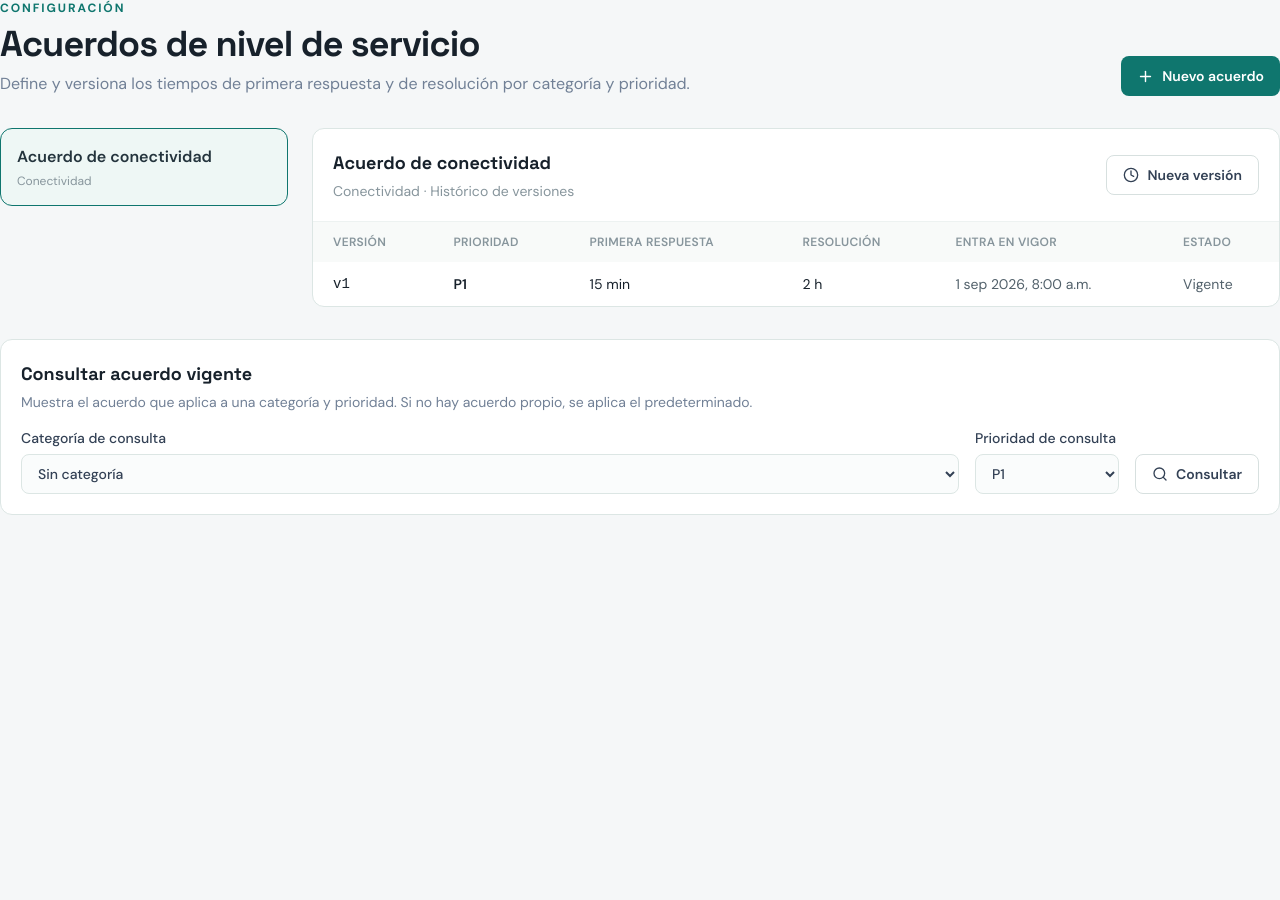
Test case: SlaPage: configuración de SLA (S2-14, HU-08.1) › AC2: exige incluir al menos una prioridad
Expected: the text "v1" is shown, top-left (313, 262), bottom-right (434, 306)
Click the button "Nueva versión".
click(1183, 175)  # box top-left (1106, 155), bottom-right (1259, 195)
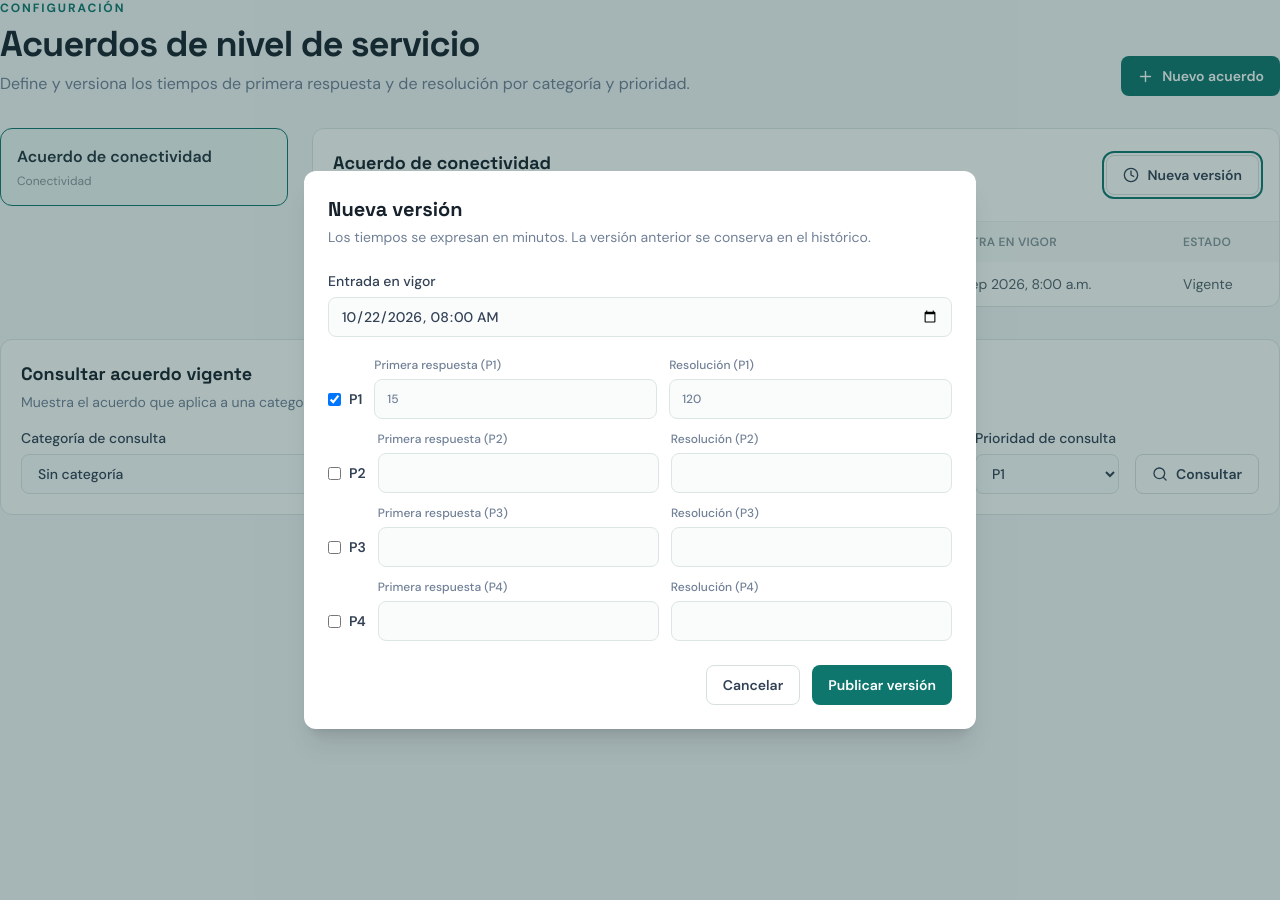
Click the checkbox named "Incluir P1".
click(334, 399)  # box top-left (328, 392), bottom-right (341, 406)
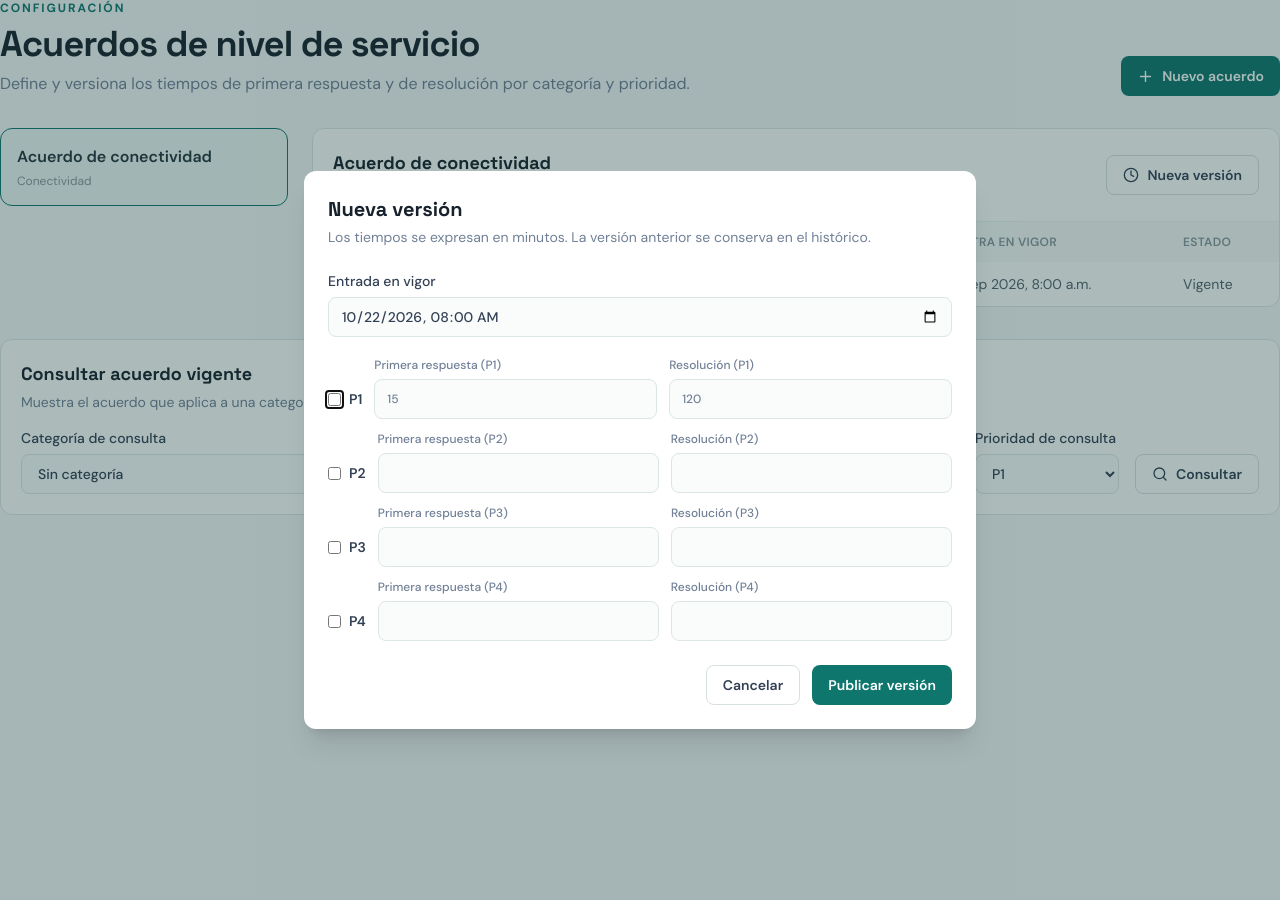
Click the button "Publicar versión".
click(882, 685)  # box top-left (812, 665), bottom-right (952, 705)
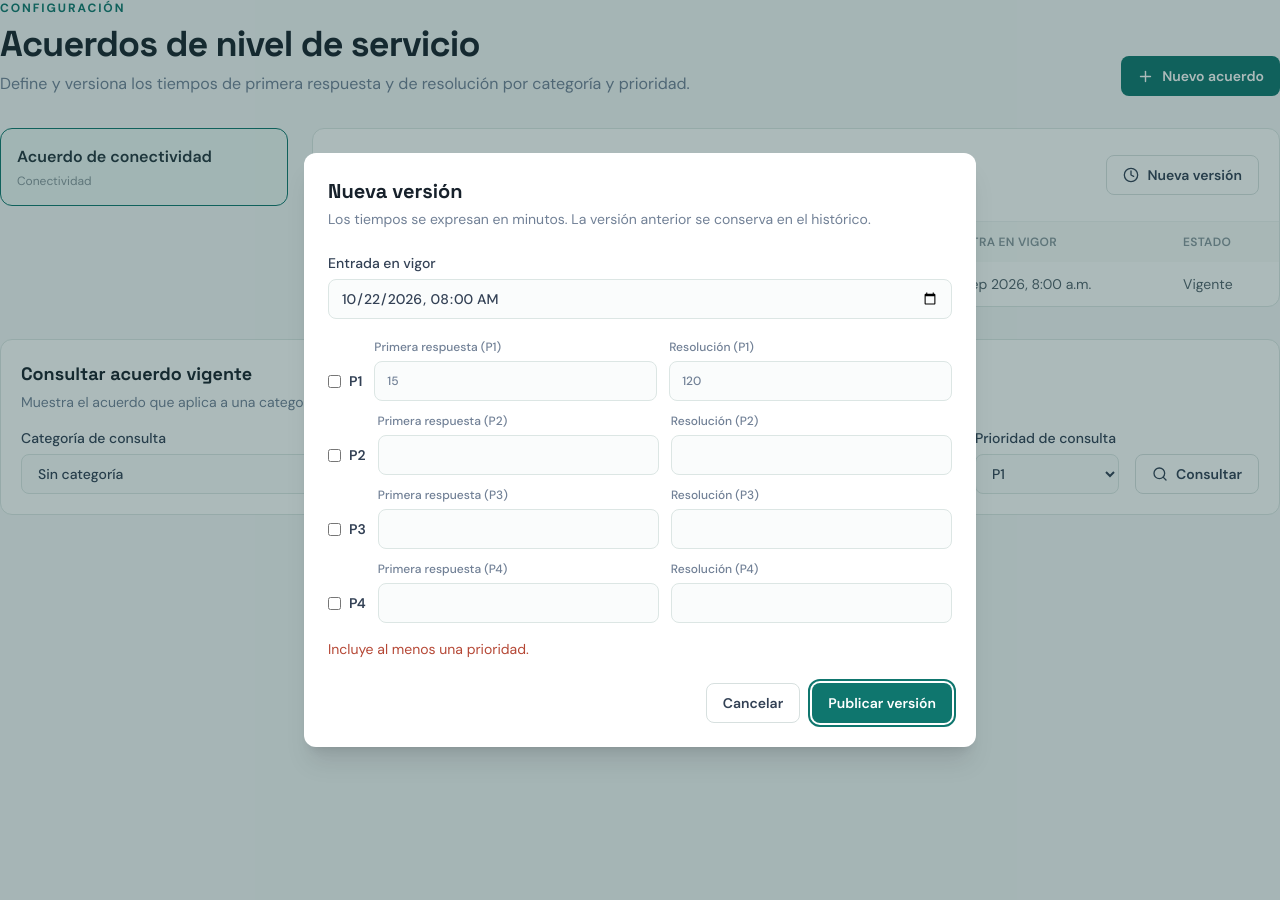
Expected: the text "Incluye al menos una prioridad." is shown, top-left (328, 640), bottom-right (529, 658)
